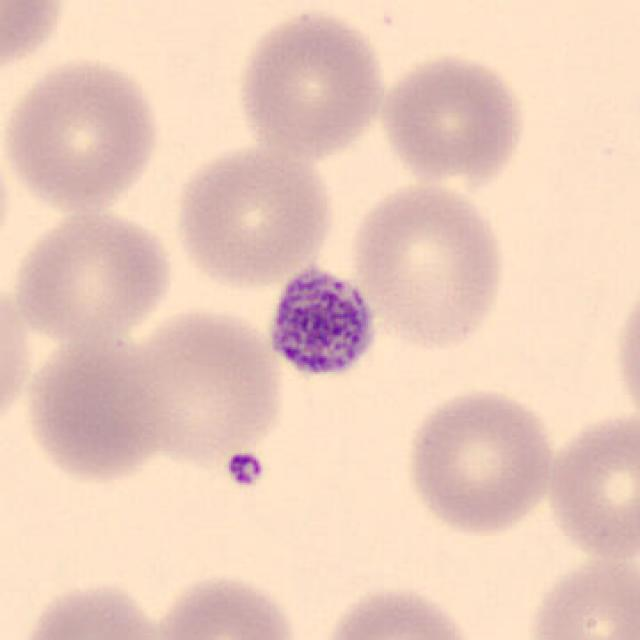Platelets: (262, 263, 382, 388), (220, 448, 266, 492)
RBC: (345, 178, 510, 354), (116, 302, 288, 464), (2, 51, 165, 215), (169, 141, 338, 293), (400, 384, 560, 540), (7, 204, 178, 346), (233, 6, 389, 160), (18, 331, 170, 485), (375, 50, 530, 190), (542, 406, 638, 564), (148, 569, 304, 640), (521, 550, 640, 640), (9, 575, 169, 640), (313, 582, 483, 640), (0, 0, 73, 85), (0, 273, 36, 443), (610, 277, 640, 434)
